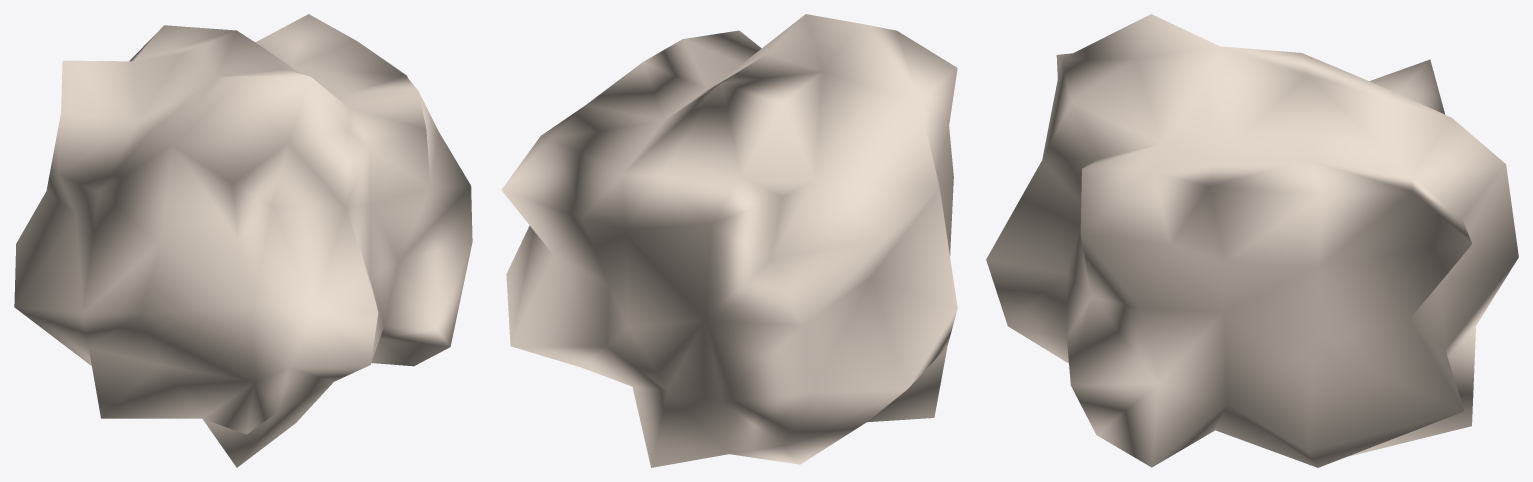
File: sm_TrashPaperBall.fbx
3 views of the same model, side by side, from view 1: azimuth 30°, elevation 25°; view 2: azimuth 150°, elevation 25°; view 3: azimuth 270°, elevation 25° (orthographic). The views are drawn at different scales.
Parts seen in each view (by area): view 1: trashball:PaperBall; view 2: trashball:PaperBall; view 3: trashball:PaperBall.
Part boxes in pixels (x1,y1,x2,y2): trashball:PaperBall: [14, 14, 472, 467]; trashball:PaperBall: [501, 14, 957, 467]; trashball:PaperBall: [986, 14, 1518, 467].
Bounding box in the file's own units: 56.91 × 51.75 × 57.86.
